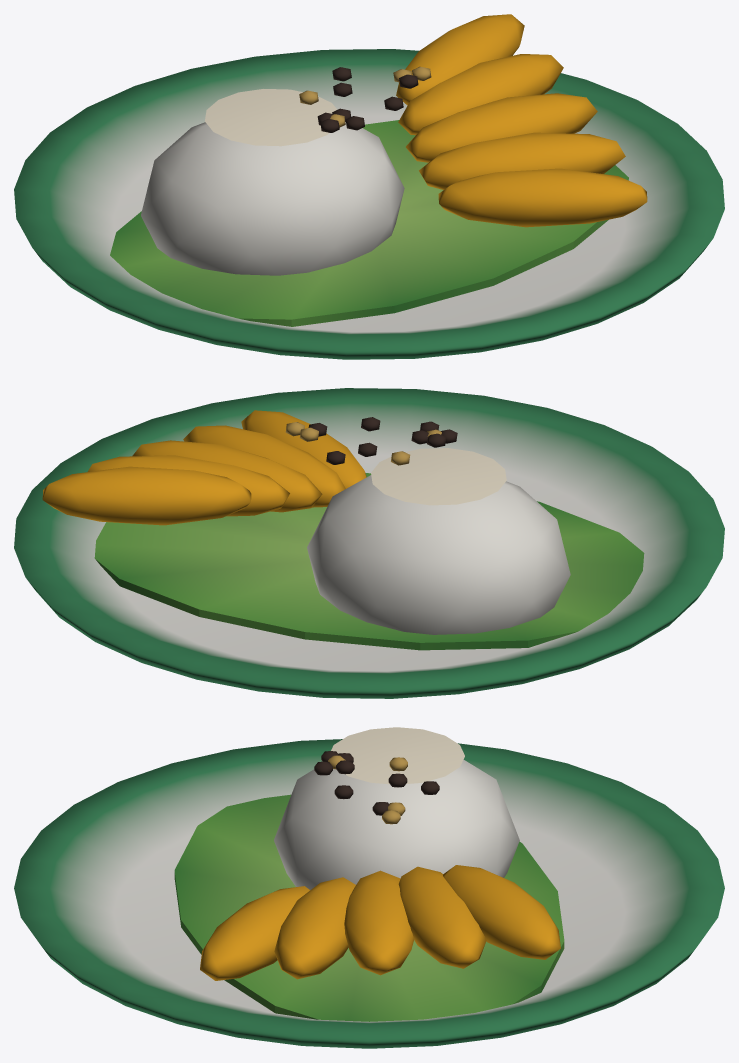
Rendered from item_dish_mango_sticky.glb.
3 renders of one model, top to bottom at view 1: azimuth 30°, elevation 25°; view 2: azimuth 150°, elevation 25°; view 3: azimuth 270°, elevation 25°, orthographic.
Visible parts, largest first — view 1: item_dish_mango_sticky_main; view 2: item_dish_mango_sticky_main; view 3: item_dish_mango_sticky_main.
Part boxes in pixels (x1,y1,x2,y2): item_dish_mango_sticky_main: [14, 14, 724, 359]; item_dish_mango_sticky_main: [14, 388, 724, 698]; item_dish_mango_sticky_main: [14, 727, 724, 1048].
Bounding box in the file's own units: 0.26 × 0.0758 × 0.26.
